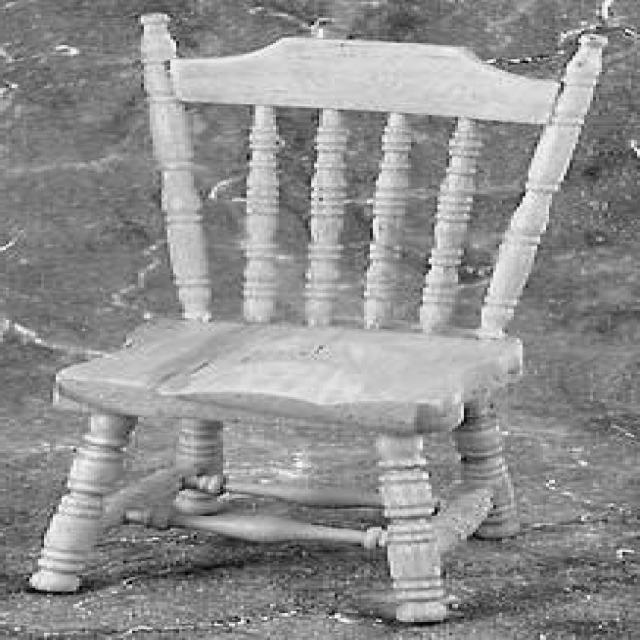chair: (24, 14, 612, 628)
